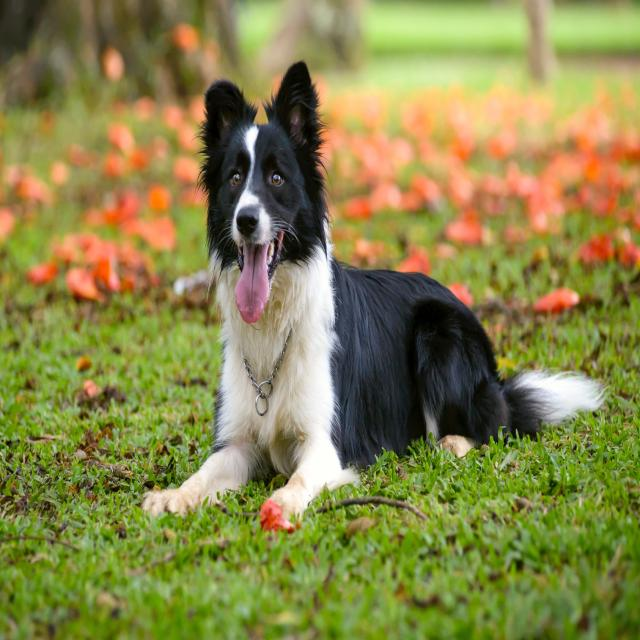ALASKAN_MALAMUTE: (135, 49, 612, 539)
